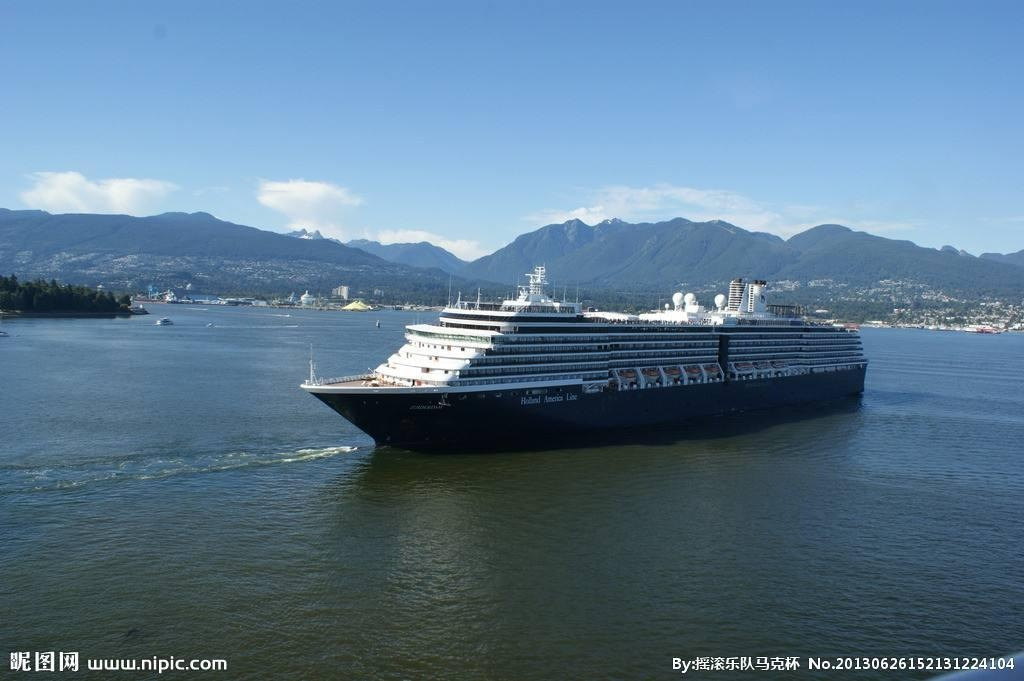youlun: (301, 264, 872, 451)
